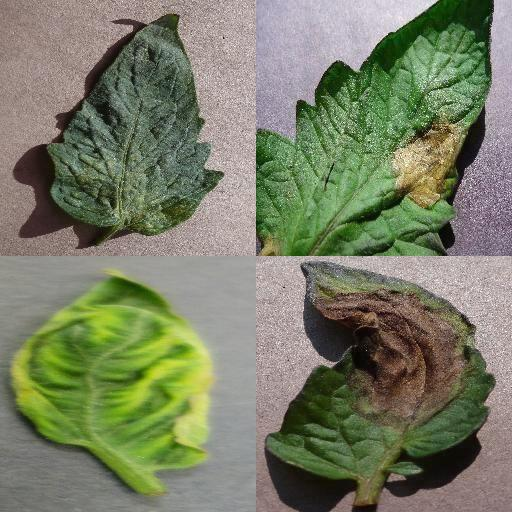Late Blight: (256, 0, 495, 256), (265, 257, 495, 479)
Spider Mites: (47, 14, 225, 236)
Yellow Leaf Curl Virus: (12, 268, 214, 472)
